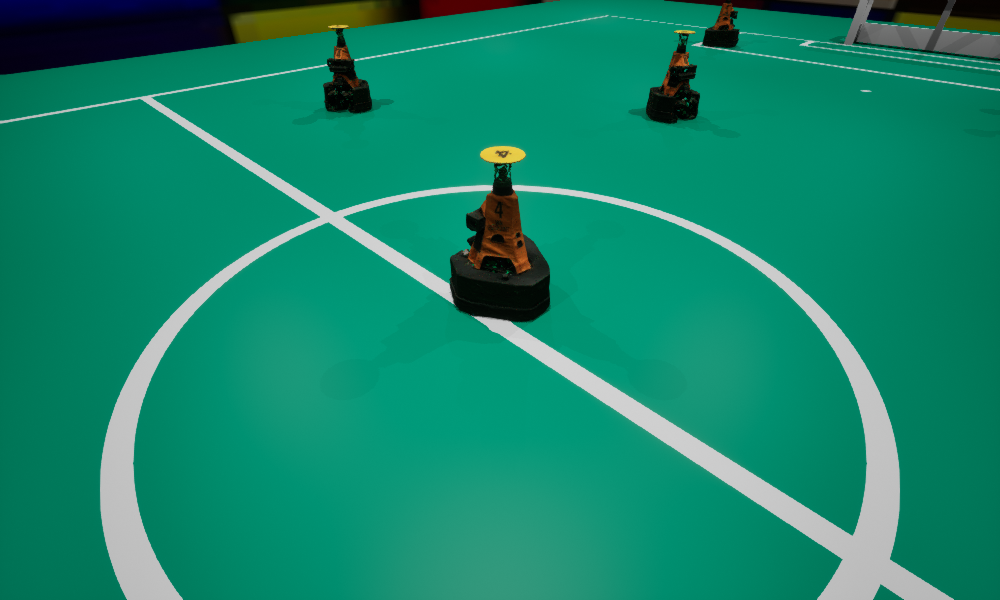o: (449, 146, 549, 321), (646, 30, 699, 123), (323, 25, 371, 112), (702, 0, 739, 47)
